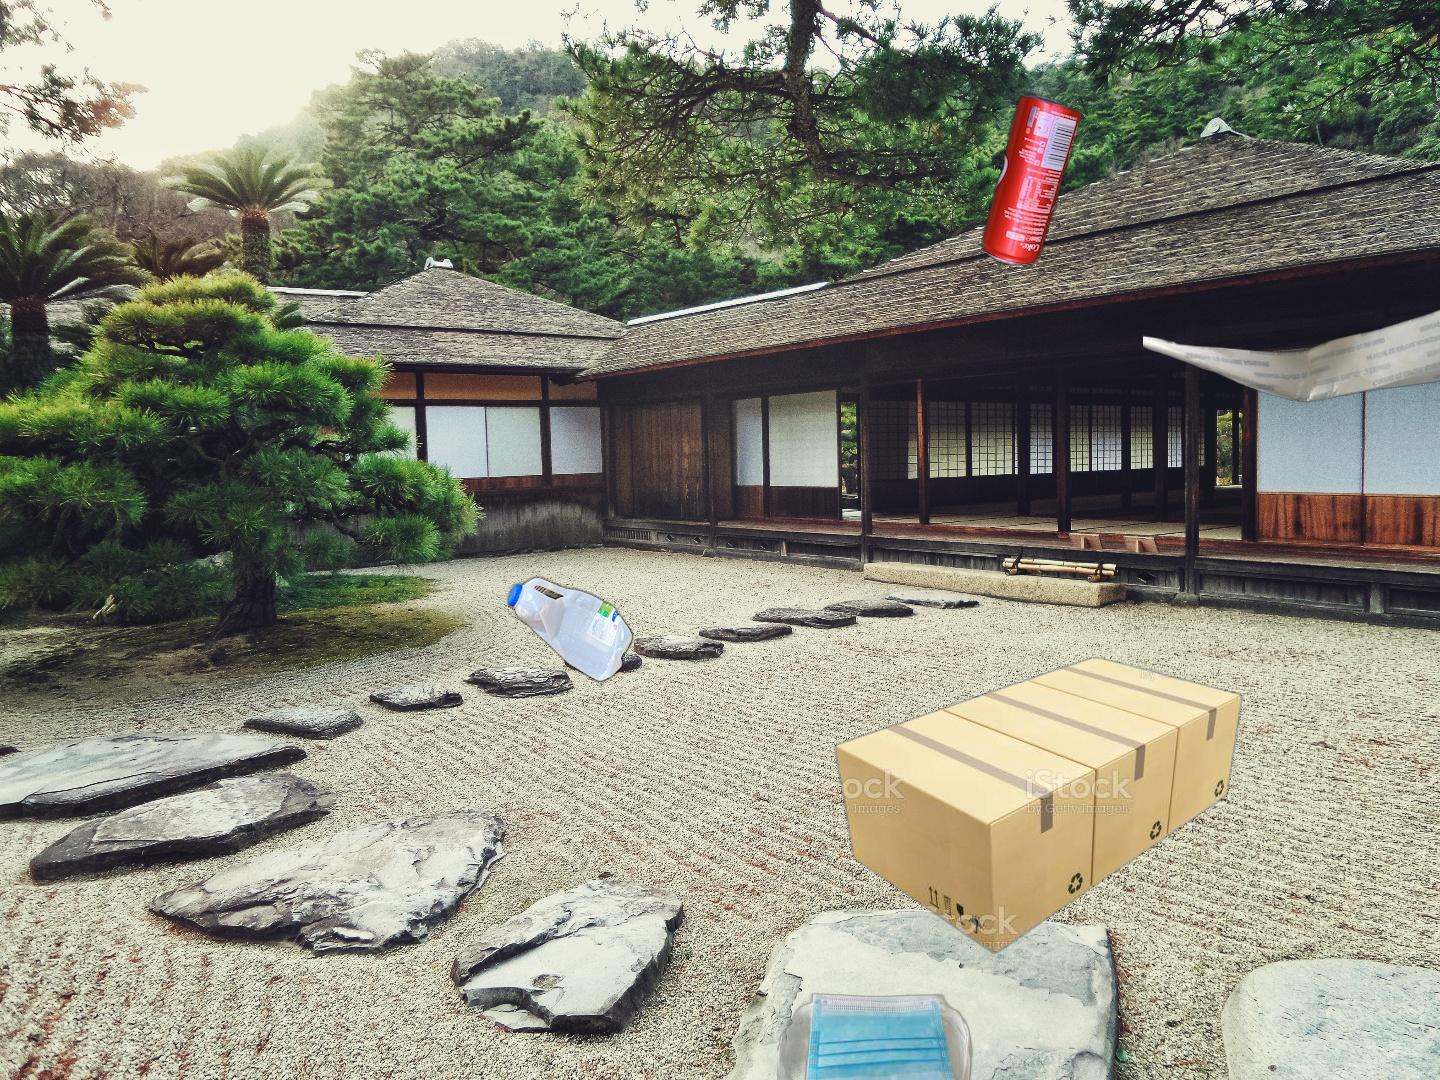metal-cans: (357, 942, 791, 1080), (976, 87, 1087, 271)
paper: (1143, 259, 1440, 405)
plastic-bottles: (386, 185, 638, 687)
trash: (777, 990, 976, 1080)
trashbox-cardboard: (829, 653, 1247, 957)
